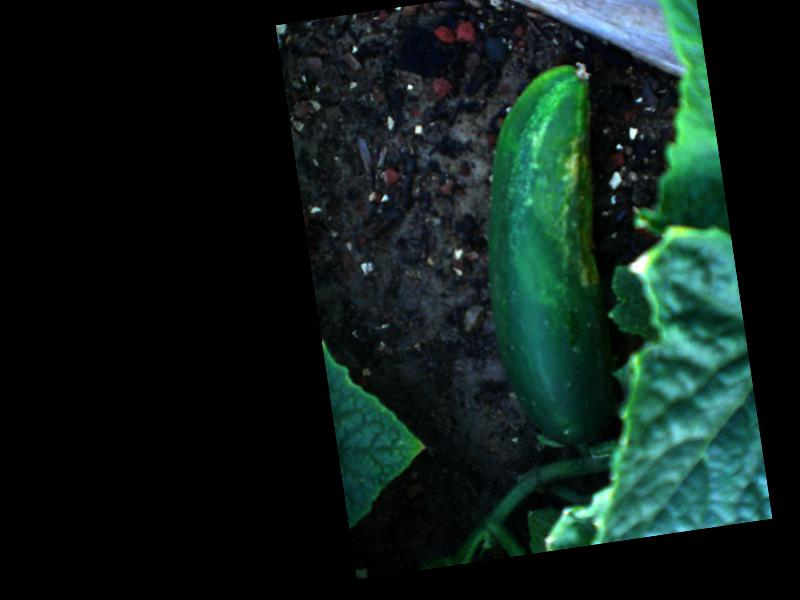Cucumber: (459, 60, 642, 453)
